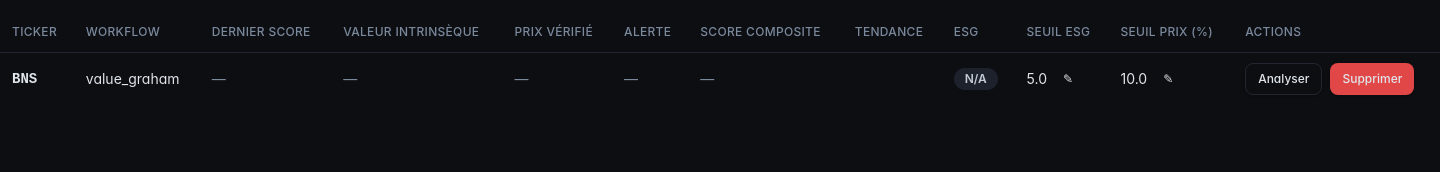
it: WatchlistTable — seuil ESG édition inline › annuler ferme l'input sans appel API
Click the button with test id "esg-threshold-edit-btn". click: (1068, 78)
box: [1051, 62, 1085, 94]
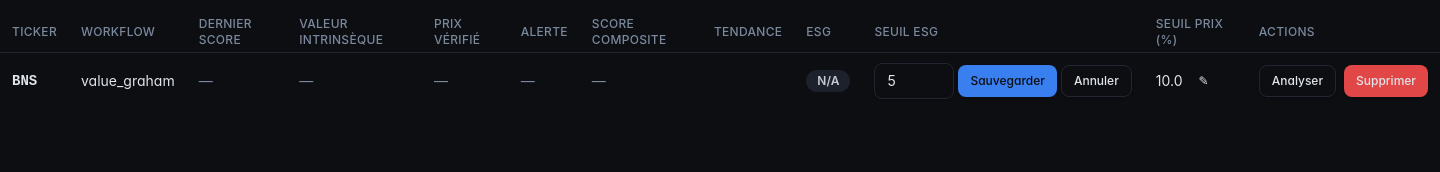
Check: the number field with test id "esg-threshold-input" is shown, box [874, 62, 954, 98]
Click the button with test id "esg-threshold-cancel-btn". click: (1096, 80)
box: [1061, 64, 1132, 96]
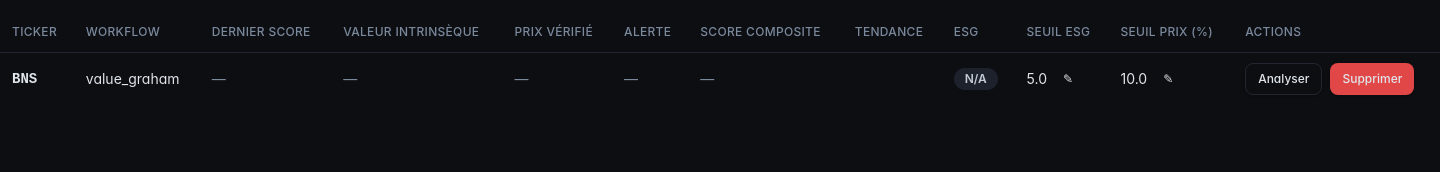
Check: the number field with test id "esg-threshold-input" is gone
